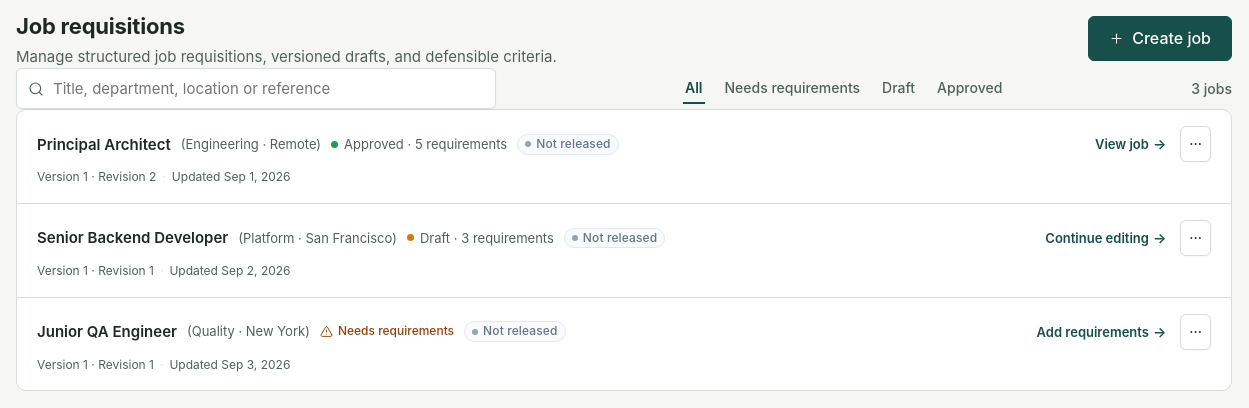
Scenario: Phase 2B.3: Jobs Workspace & Requirement Builder › Jobs Directory Status Calculation and Tab Filtering › filters correctly by Needs requirements tab
Click the tab "Needs requirements" at {"x": 792, "y": 89}, box [722,73,862,104]
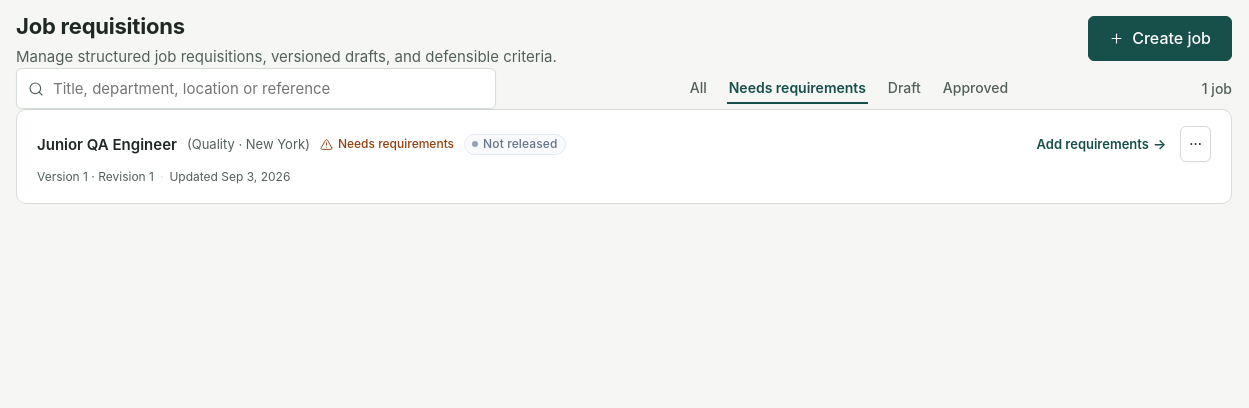
Expected: the text "Principal Architect" is gone
Expected: the text "Senior Backend Developer" is gone
Expected: the text "1 job" is shown, [1202,78,1232,100]
